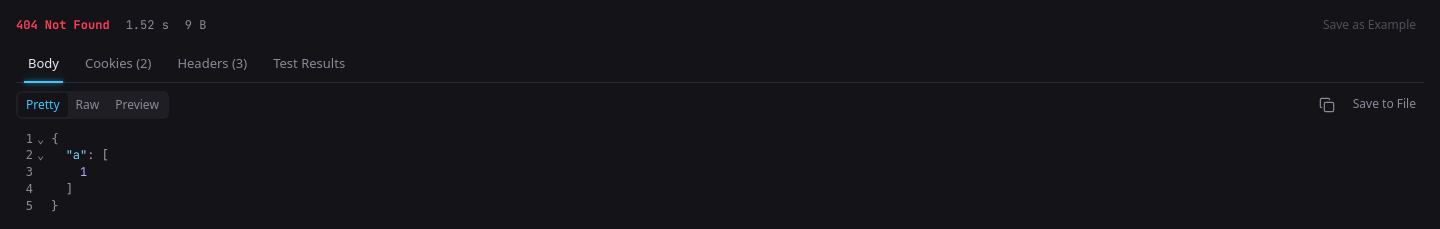
Test: ResponseViewer › shows the status, the size and a timing breakdown on hover
Expected: the text "404 Not Found" is shown, [16,16,110,34]
Expected: the text "9 B" is shown, [185,16,206,34]
Hover over the button "1.52 s" at (147, 25), box [126,16,169,34]
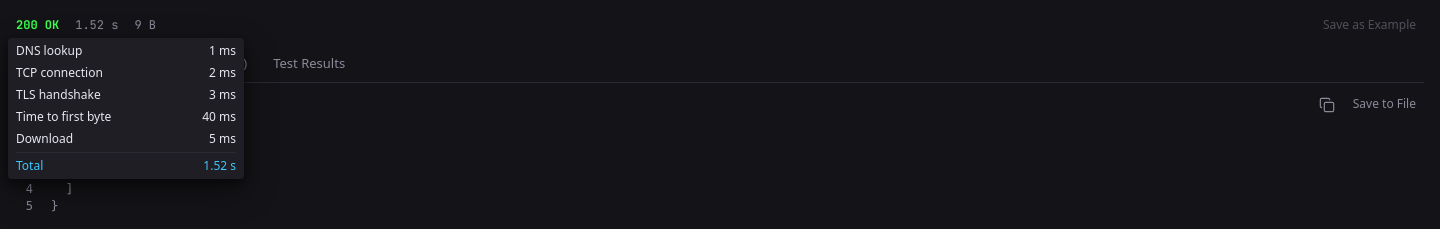
Expected: the element named "Response status" is shown, [16,16,156,34]
Result: the text "40 ms" is shown at [202,108,236,126]
Result: the text "200 OK" is shown at [16,16,59,34]
